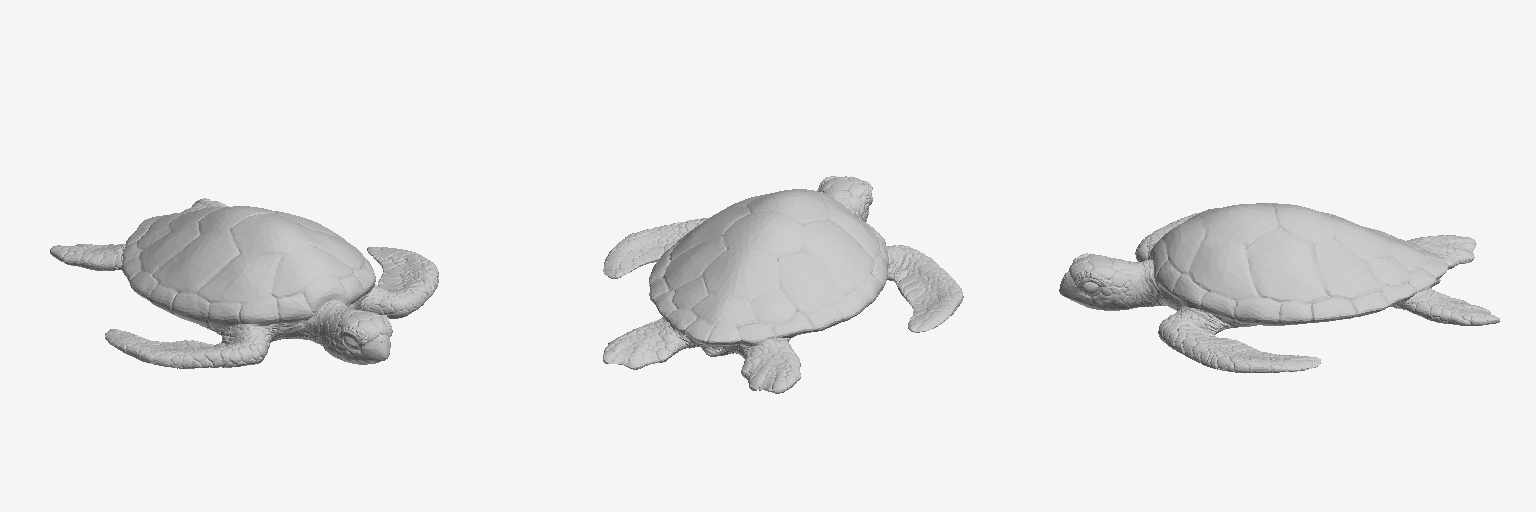
Rendered from sea_turtle.mesh__sf.obj.
The picture shows the model from 3 angles: view 1: azimuth 30°, elevation 25°; view 2: azimuth 150°, elevation 25°; view 3: azimuth 270°, elevation 25°; orthographic projection.
Size of the model in its own units: 33.48 by 9.25 by 39.8.